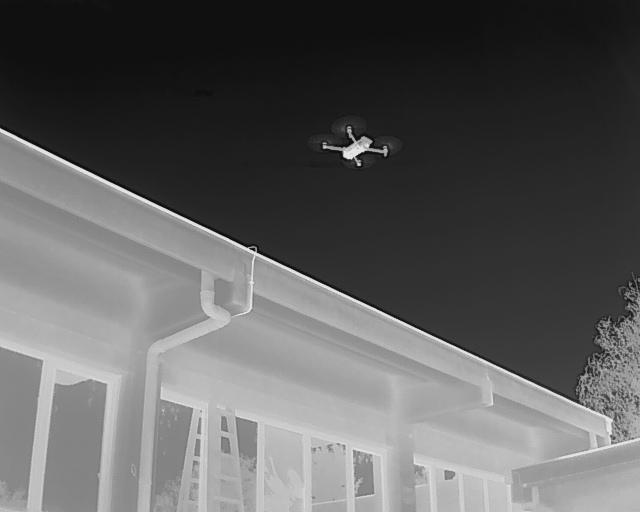drone: (310, 106, 402, 179)
